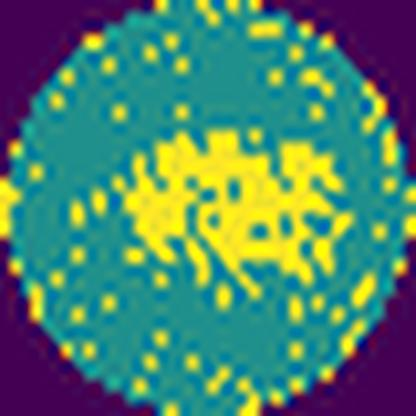Center: (112, 127, 351, 300)
